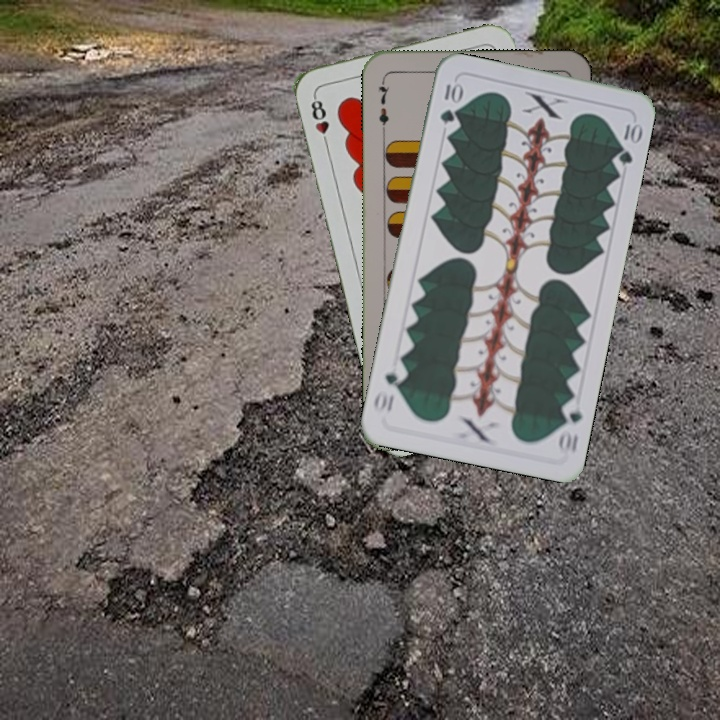E7: (375, 75, 392, 134)
G10: (554, 396, 585, 457), (436, 79, 463, 126)
H8: (307, 92, 332, 150)
